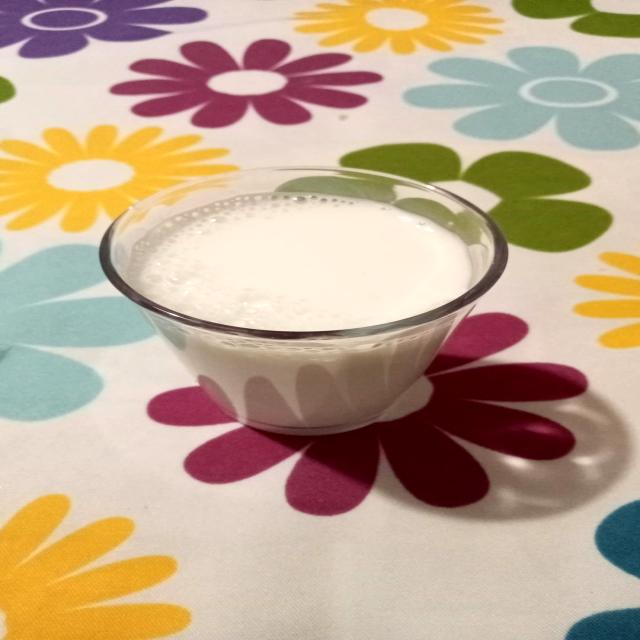milk: (107, 156, 510, 444)
